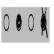correct: (16, 12, 22, 34)
not correct: (40, 6, 48, 40)
